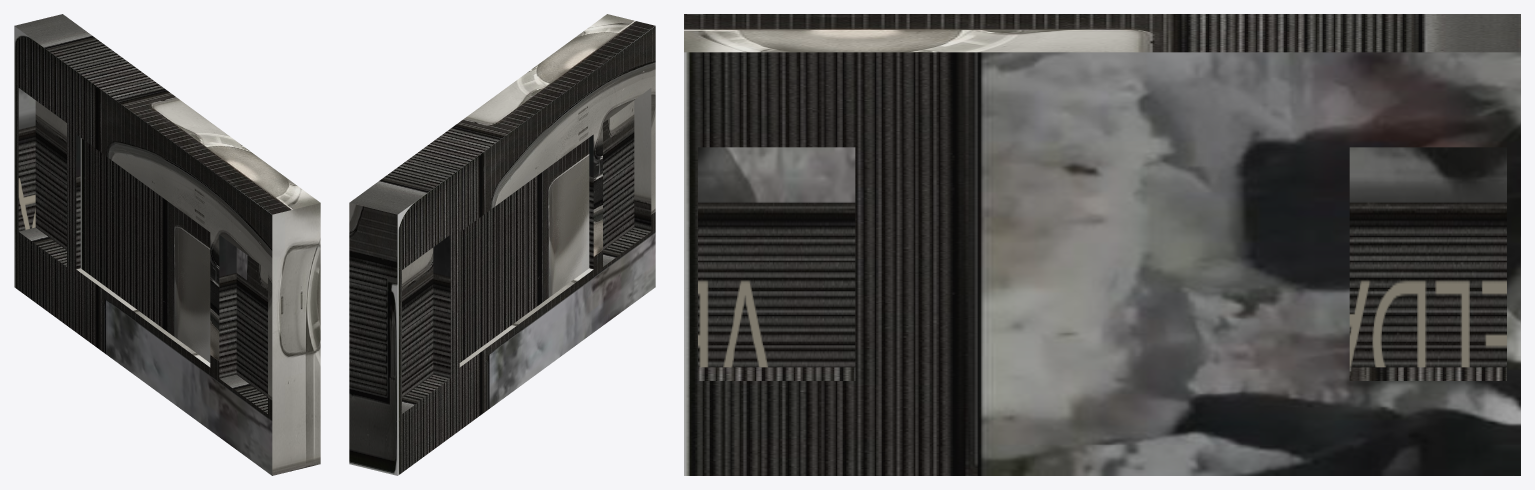
File: KASET32.fbx
3 renders of one model, left to right at view 1: azimuth 30°, elevation 25°; view 2: azimuth 150°, elevation 25°; view 3: azimuth 270°, elevation 25°, orthographic. The views are drawn at different scales.
Parts seen in each view (by area): view 1: Cube; view 2: Cube; view 3: Cube.
Part boxes in pixels (x1,y1,x2,y2): Cube: (14,14,320,475); Cube: (349,14,655,475); Cube: (684,14,1520,475).
Bounding box in the file's own units: 54.06 × 278 × 497.
